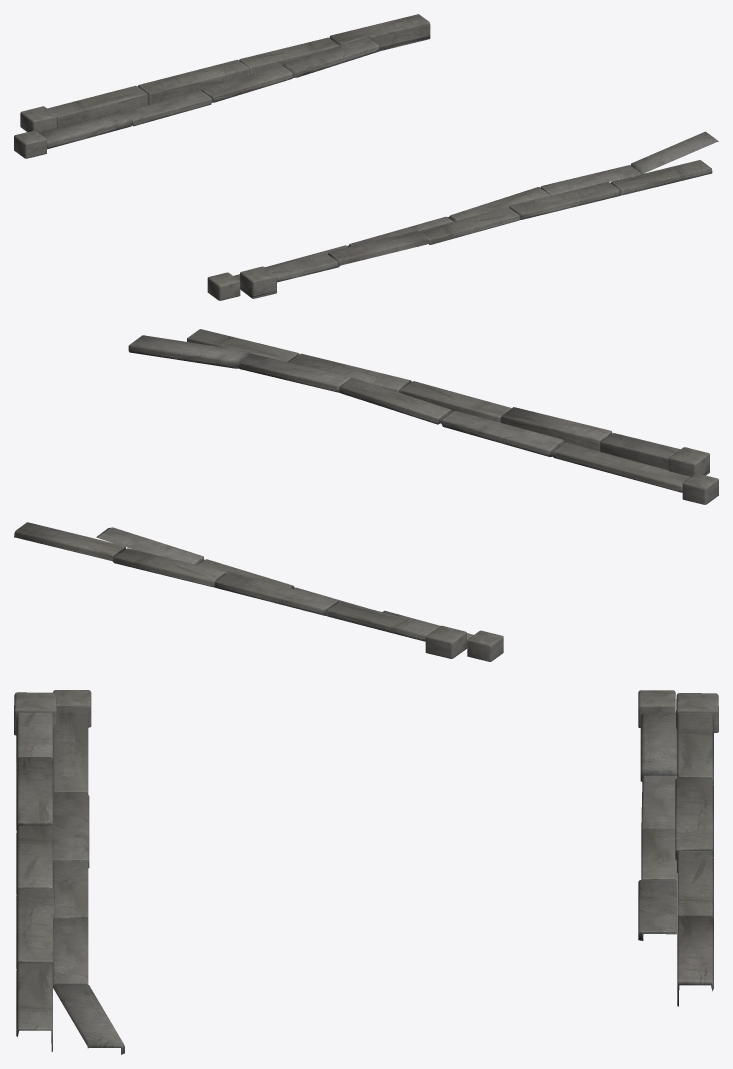
The model's file is SM_ENV_LKNVLD_Ground_Right_SideTrimOuter_03.FBX.
The picture shows the model from 3 angles, top to bottom: view 1: azimuth 30°, elevation 25°; view 2: azimuth 150°, elevation 25°; view 3: azimuth 270°, elevation 25°; orthographic projection. The views are drawn at different scales.
Visible parts, largest first — view 1: SM_ENV_LKNVLD_Ground_Right_SideTrimOuter_03; view 2: SM_ENV_LKNVLD_Ground_Right_SideTrimOuter_03; view 3: SM_ENV_LKNVLD_Ground_Right_SideTrimOuter_03.
Boxes of the visible parts, box(x1,y1,x2,y2) form: SM_ENV_LKNVLD_Ground_Right_SideTrimOuter_03: box(14, 14, 718, 300); SM_ENV_LKNVLD_Ground_Right_SideTrimOuter_03: box(14, 329, 718, 661); SM_ENV_LKNVLD_Ground_Right_SideTrimOuter_03: box(14, 690, 718, 1054).
Size of the model in its own units: 1128 by 61.26 by 894.
